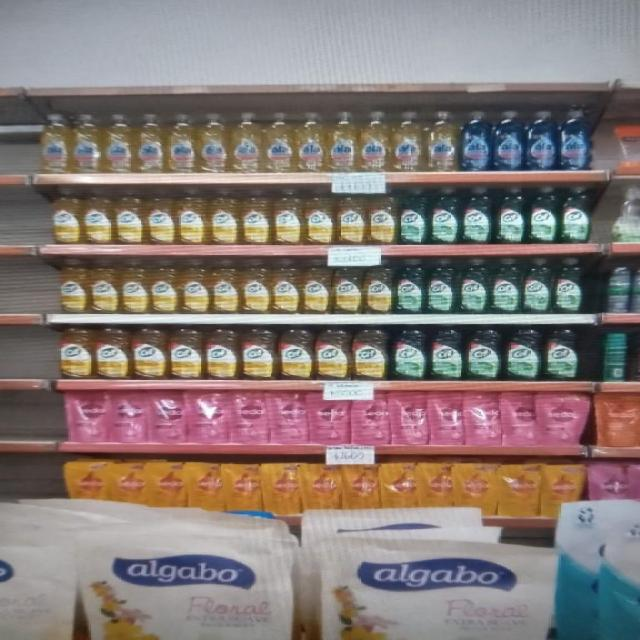ala_conc_amarillo: (427, 110, 459, 172), (230, 112, 262, 174), (38, 112, 70, 174), (392, 110, 424, 172), (263, 111, 294, 173), (360, 110, 390, 173), (104, 112, 134, 174), (296, 111, 326, 173), (135, 112, 165, 174), (328, 110, 358, 172), (72, 112, 102, 174), (198, 112, 228, 173), (167, 112, 196, 174)
ala_conc_azul: (558, 108, 592, 170), (492, 110, 524, 171), (460, 110, 490, 172), (526, 110, 556, 171)
cif_conc_bot_amarilla: (352, 326, 389, 382), (57, 324, 93, 380), (315, 326, 351, 381), (168, 326, 203, 381), (49, 187, 82, 245), (241, 327, 276, 381), (278, 327, 313, 381), (132, 326, 167, 380), (95, 325, 129, 380), (176, 188, 208, 245), (205, 327, 238, 381), (241, 188, 271, 246), (83, 187, 113, 245), (274, 188, 304, 246), (114, 188, 144, 245), (364, 257, 394, 314), (210, 188, 240, 245), (305, 188, 335, 245), (368, 187, 397, 245), (58, 258, 88, 314), (146, 188, 175, 245), (337, 188, 366, 245), (302, 259, 332, 314), (180, 259, 210, 314), (241, 258, 270, 314), (90, 258, 119, 314), (333, 258, 362, 314), (271, 259, 300, 314), (120, 259, 148, 314), (150, 259, 178, 314), (211, 259, 239, 314)
cif_conc_botella_verde: (544, 326, 583, 382), (504, 326, 542, 382), (466, 326, 502, 382), (391, 326, 427, 381), (429, 325, 464, 381), (554, 257, 588, 314), (560, 185, 592, 244), (495, 186, 526, 244), (430, 186, 460, 245), (528, 186, 558, 244), (458, 258, 489, 314), (399, 187, 428, 246), (491, 257, 521, 314), (462, 187, 492, 244), (426, 258, 456, 314), (524, 257, 552, 314), (396, 258, 424, 314)
